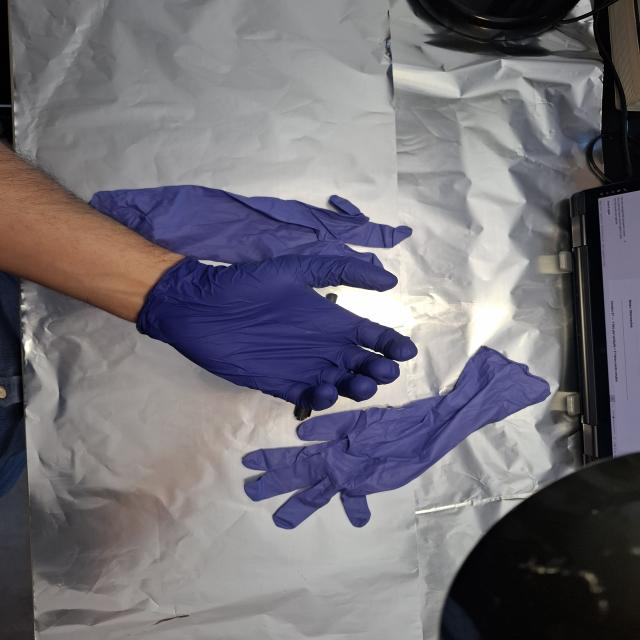glove_on: (131, 253, 422, 413)
